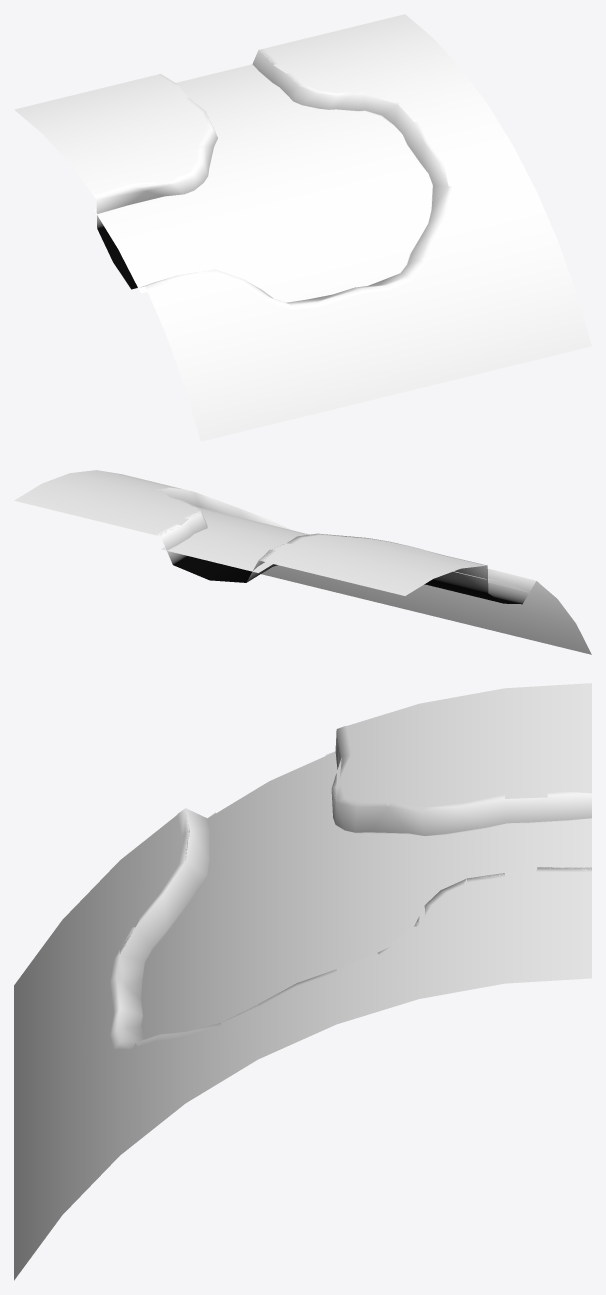
The model's file is grd_Ren_P_0.dae.
The picture shows the model from 3 angles, top to bottom: view 1: azimuth 30°, elevation 25°; view 2: azimuth 150°, elevation 25°; view 3: azimuth 270°, elevation 25°; orthographic projection. The views are drawn at different scales.
Parts seen in each view (by area): view 1: grass_1_0, river_2_0, cliff_river_0_0, river_edge_3_0; view 2: grass_1_0, cliff_river_0_0, river_2_0, river_edge_3_0; view 3: grass_1_0, river_2_0, cliff_river_0_0, river_edge_3_0.
Part boxes in pixels (x1=…): grass_1_0: x1=14, y1=14, x2=591, y2=441; river_2_0: x1=94, y1=65, x2=431, y2=302; cliff_river_0_0: x1=93, y1=48, x2=452, y2=310; river_edge_3_0: x1=94, y1=64, x2=432, y2=302; grass_1_0: x1=14, y1=470, x2=591, y2=654; cliff_river_0_0: x1=155, y1=487, x2=538, y2=604; river_2_0: x1=162, y1=508, x2=531, y2=593; river_edge_3_0: x1=161, y1=507, x2=530, y2=593; grass_1_0: x1=14, y1=683, x2=591, y2=1280; river_2_0: x1=142, y1=752, x2=591, y2=1038; cliff_river_0_0: x1=110, y1=726, x2=591, y2=1049; river_edge_3_0: x1=141, y1=751, x2=591, y2=1039.
Size of the model in its own units: 512 by 244 by 423.
4 materials, 1 textured.
